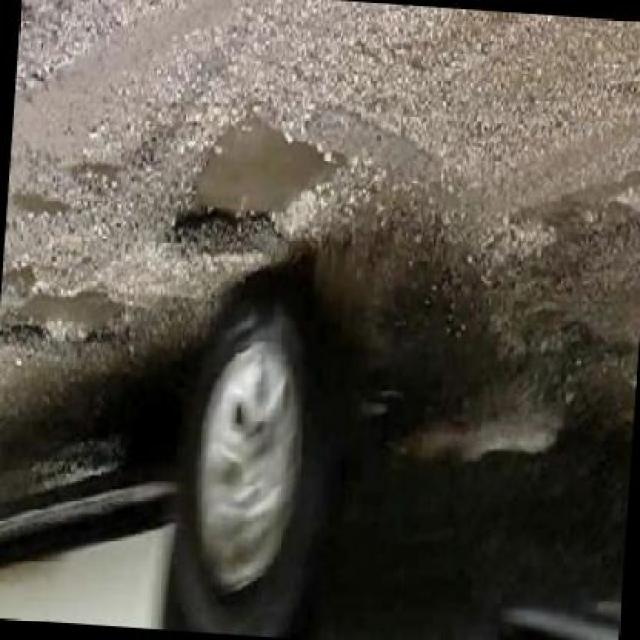pothole1: (175, 103, 362, 266), (0, 257, 140, 366), (71, 160, 124, 206), (9, 189, 74, 223), (21, 0, 77, 22)
